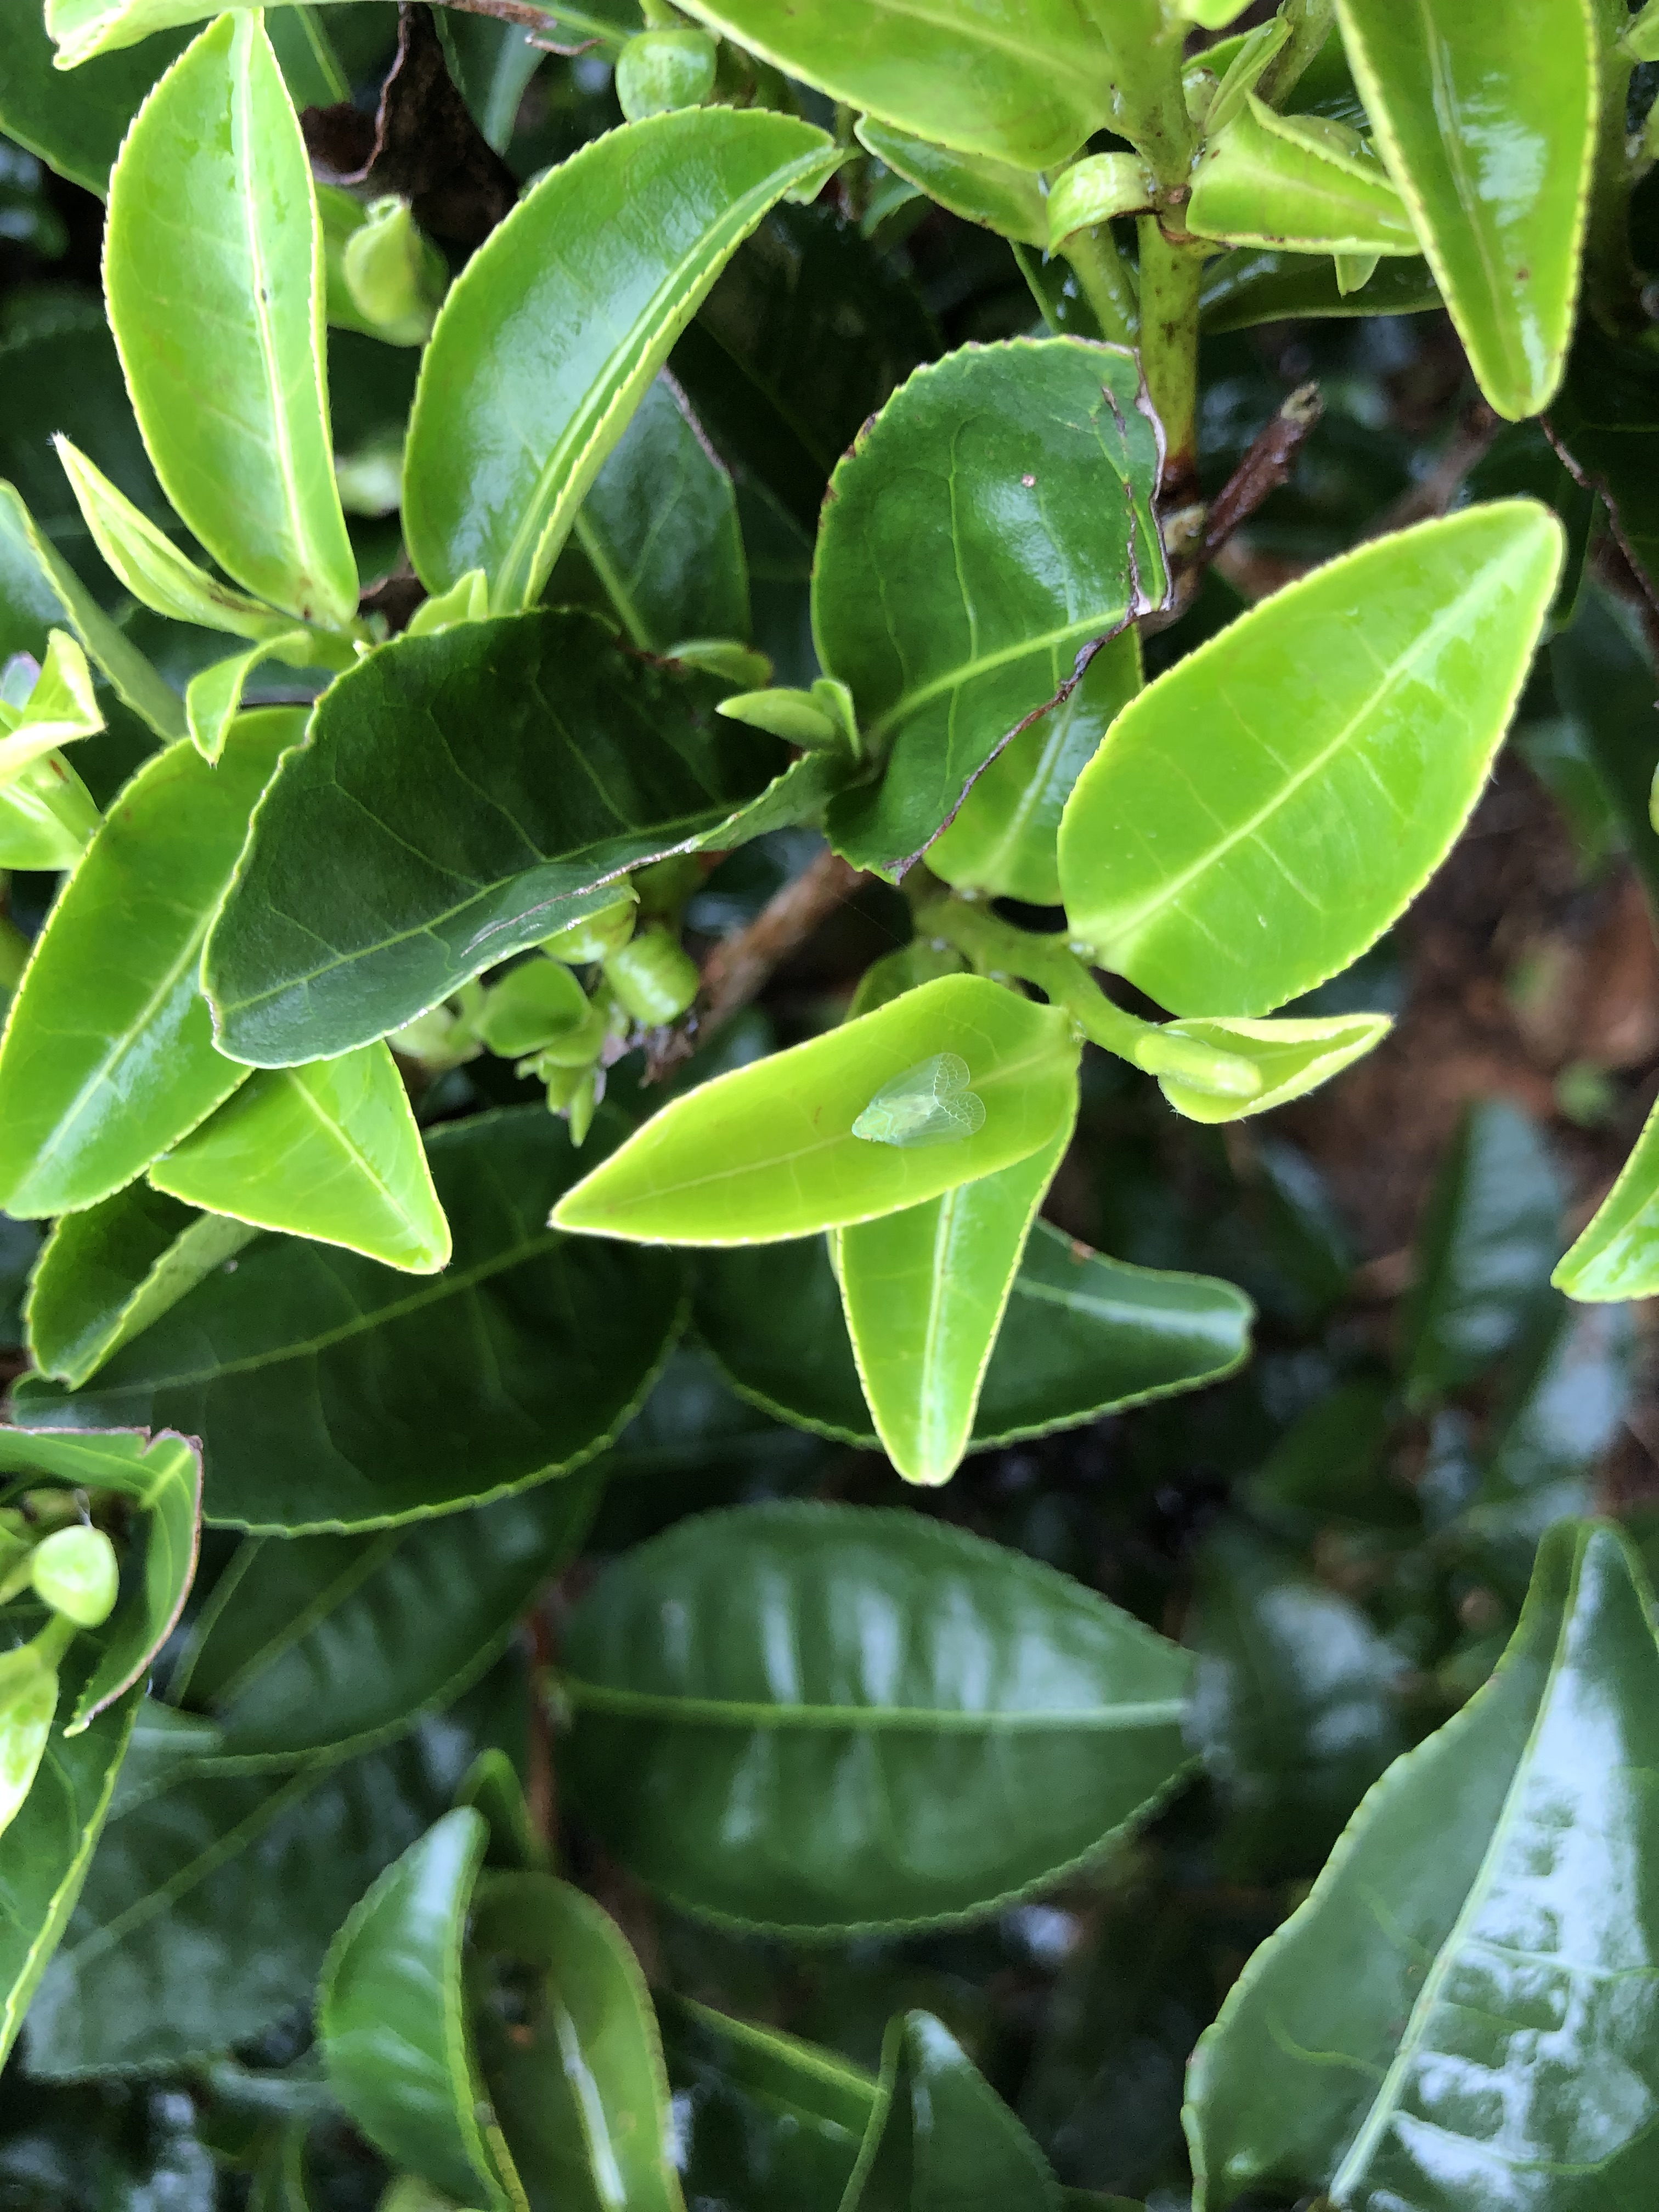caloptilia: (1042, 136, 1168, 254)
